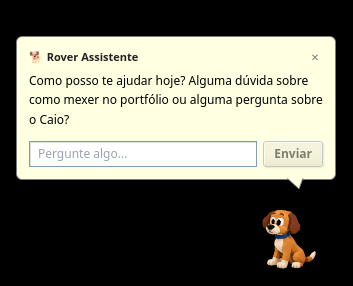
PuppyAssistant › allows sending user message via Enter key
Type "Qual a sua stack?" into the field with placeholder "Pergunte algo..." at [143, 154], box [29, 141, 257, 167]
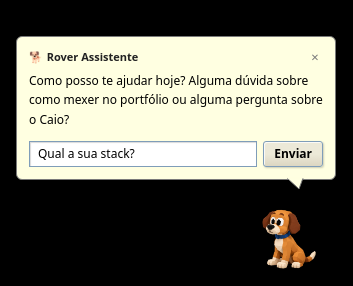
Press Enter in the field with placeholder "Pergunte algo...", box [29, 141, 257, 167]
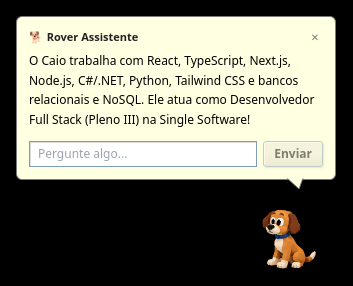
Check: the field with placeholder "Pergunte algo..." is empty, box [29, 141, 257, 167]
Check: the text "O Caio trabalha com React, TypeScript" is shown, box [29, 52, 314, 128]
Check: the text "Como posso te ajudar hoje?" is gone
